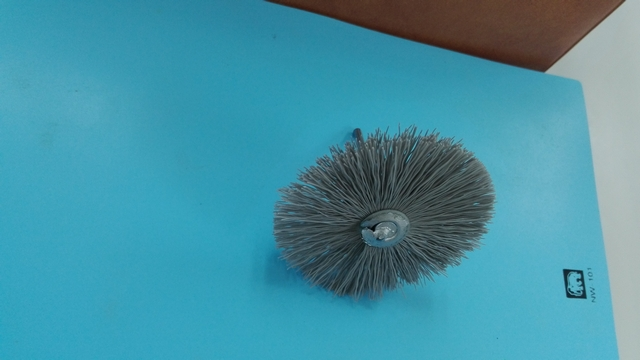TOOL: (240, 105, 545, 305), (275, 84, 519, 315), (221, 112, 482, 314), (241, 123, 501, 308)
